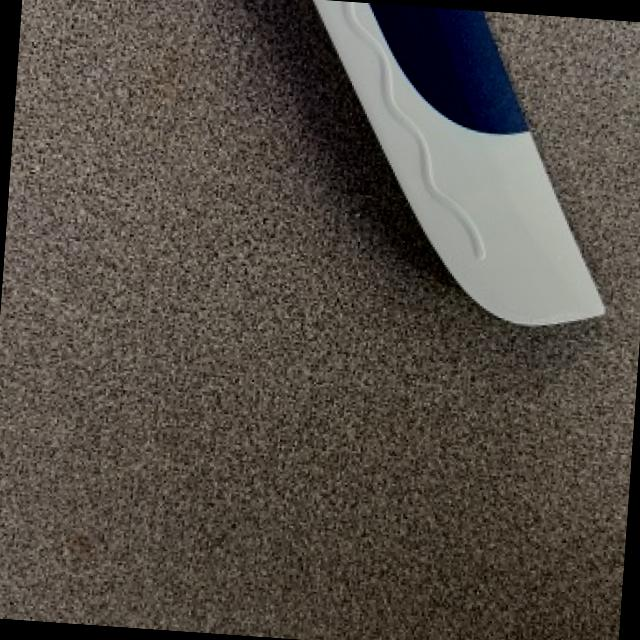healthy: (317, 0, 605, 318)
